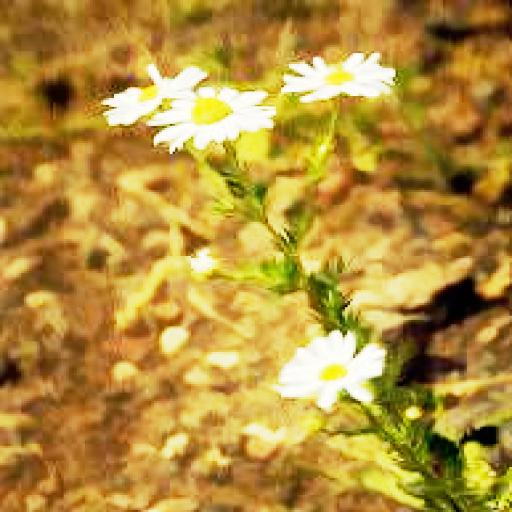daisy: (154, 83, 265, 156), (276, 335, 390, 405), (279, 56, 395, 102), (90, 70, 188, 116)
